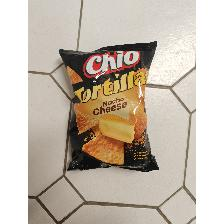Chips: (59, 40, 161, 174)
